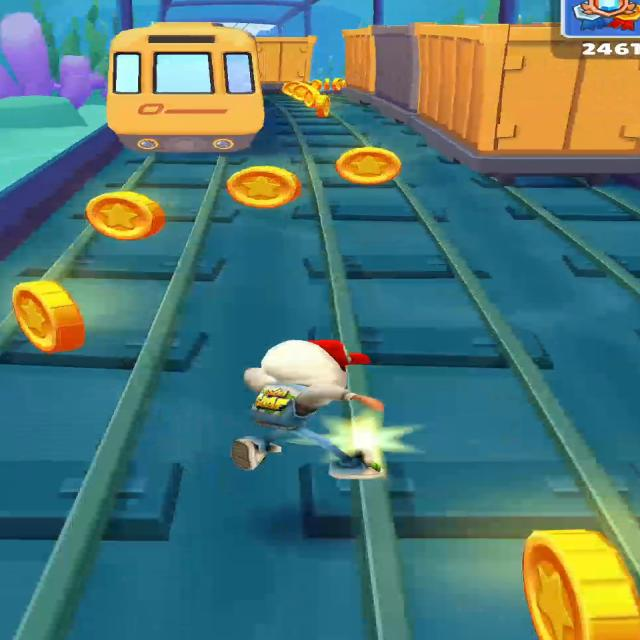train: (343, 23, 639, 181), (107, 23, 265, 153), (256, 36, 315, 85)
